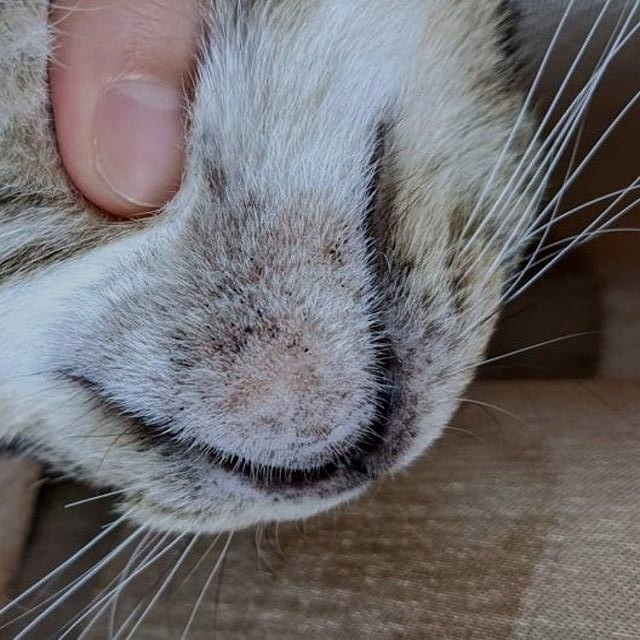acne: (163, 196, 357, 425)
